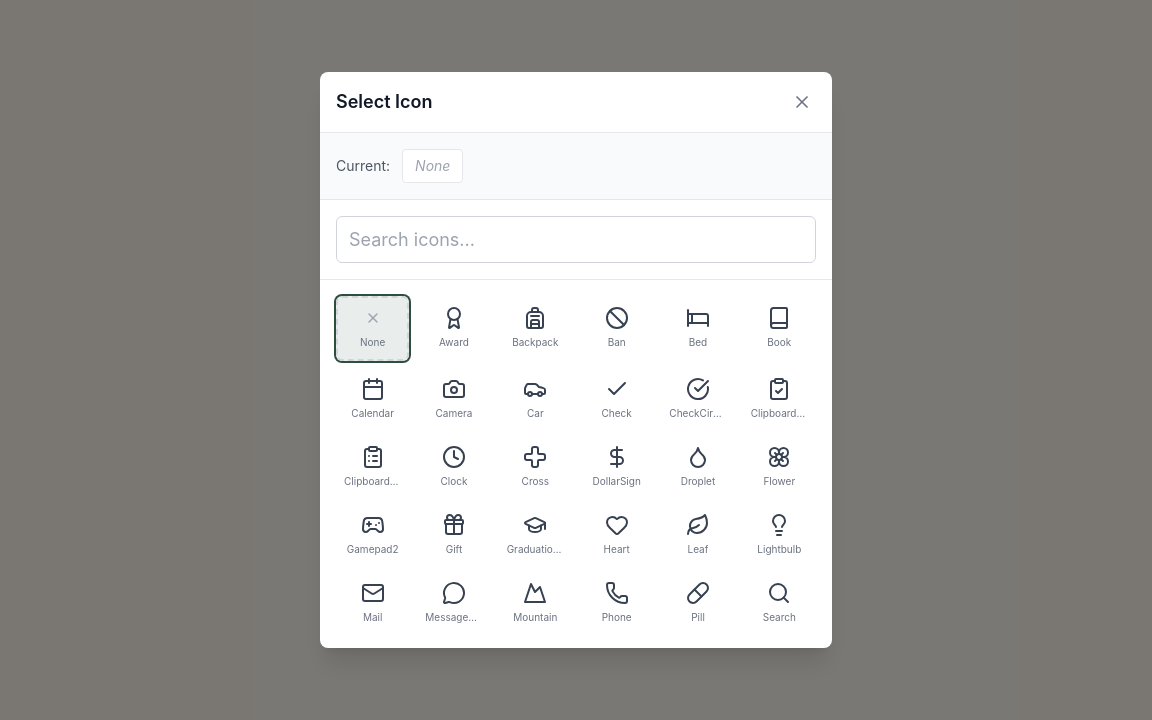
Test: REQ-CARD-004 — IconFieldEnhancer Component › Icon Picker Modal › supports search/filter functionality
Step 1. Type "heart" into the field with placeholder "Search icons..." → (576, 240), box [336, 216, 816, 263]
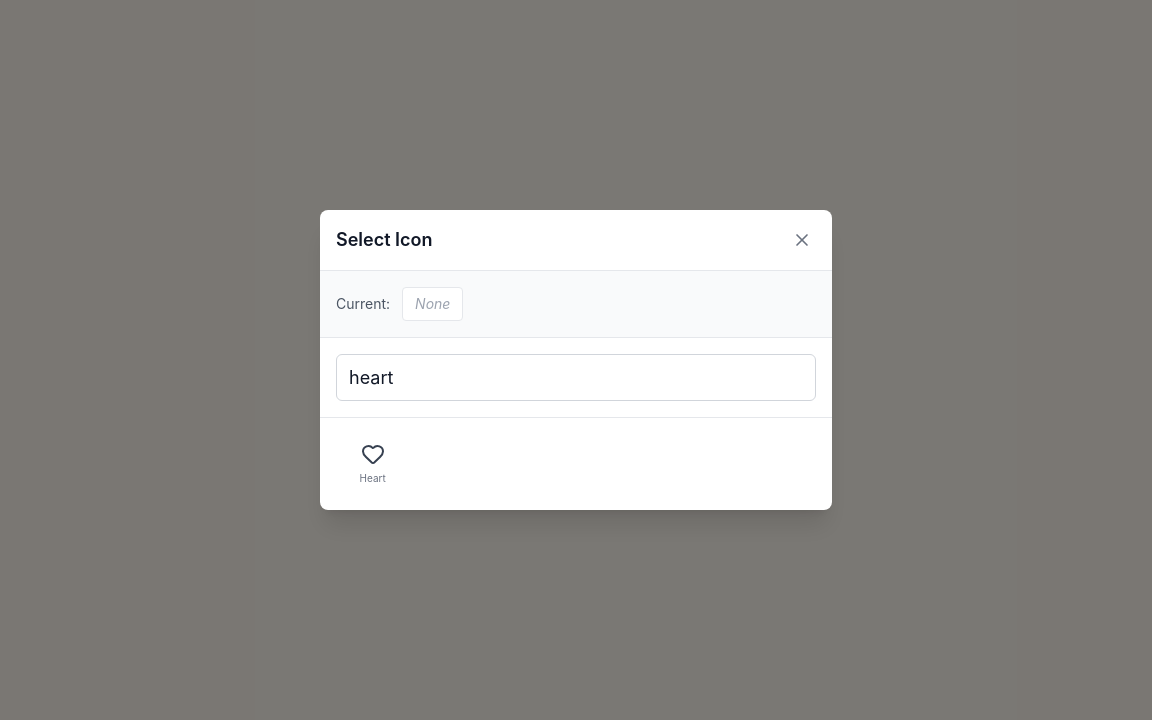
Expected: the button titled "Heart" is shown, [336, 434, 409, 494]
Now the button titled "Star" is gone
